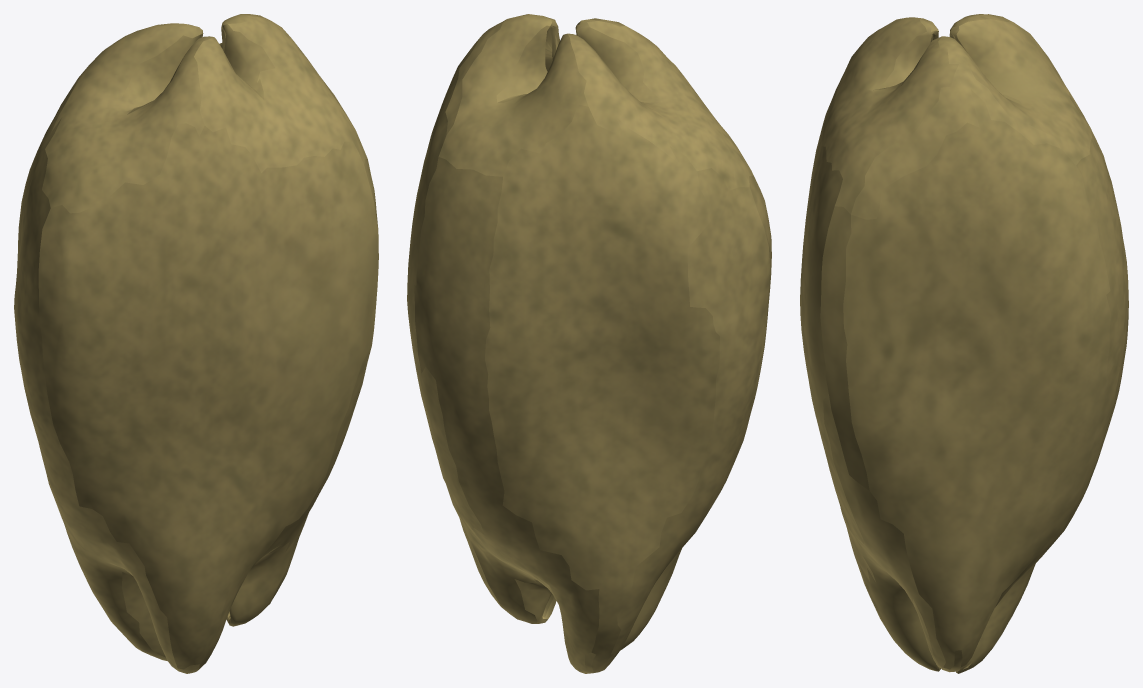
The model's file is tex_mesh.glb.
3 renders of one model, left to right at view 1: azimuth 30°, elevation 25°; view 2: azimuth 150°, elevation 25°; view 3: azimuth 270°, elevation 25°, orthographic. The views are drawn at different scales.
Visible parts, largest first — view 1: world; view 2: world; view 3: world.
Boxes of the visible parts, <box> form: world: <box>14,14,378,673</box>; world: <box>407,14,771,673</box>; world: <box>800,14,1128,673</box>.
Bounding box in the file's own units: 0.012 × 0.0236 × 0.0107.
1 material, 1 textured.
